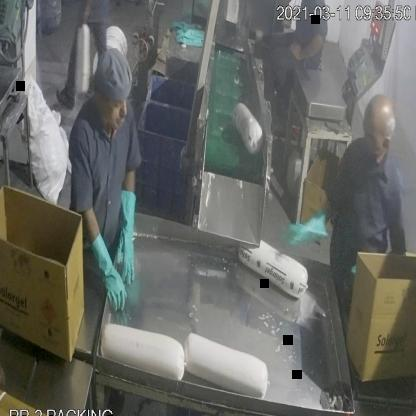glove: (114, 180, 146, 290), (278, 205, 334, 258), (92, 233, 128, 311)
no_glove: (288, 27, 329, 75)
